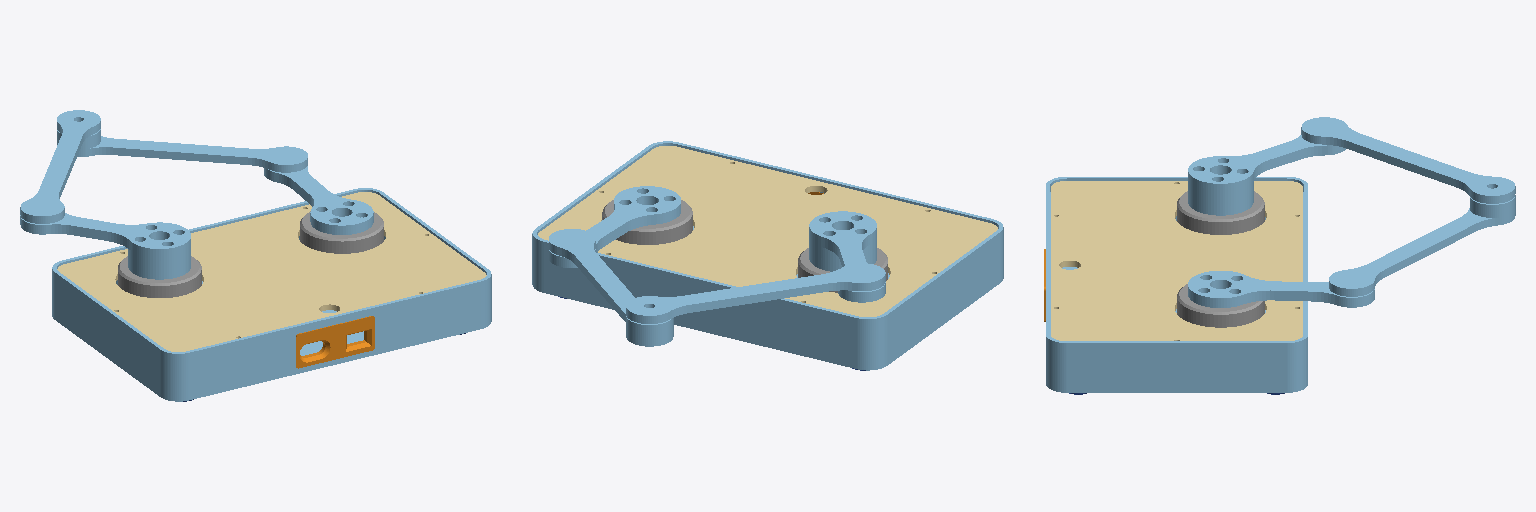
URDF robot description (motkinbench_five_bar):
<?xml version="1.0" ?>
<!-- Generated using onshape-to-robot -->
<!-- Onshape https://cad.onshape.com/documents/581c9cc37f21d16430f878db/w/71943bc1e21e09c7efc95c4d/e/f006a340564aa87bd0b132ba -->
<robot name="motkinbench_five_bar">
  <!-- Link base_link -->
  <link name="base_link">
    <inertial>
      <origin xyz="0 0 0" rpy="0 0 0"/>
      <mass value="1e-09"/>
      <inertia ixx="1e-09" ixy="0" ixz="0" iyy="1e-09" iyz="0" izz="1e-09"/>
    </inertial>
  </link>
  <!-- Link case -->
  <link name="case">
    <inertial>
      <origin xyz="0.00789938 0.0135971 0.00225065" rpy="0 0 0"/>
      <mass value="0.193781"/>
      <inertia ixx="0.000289186" ixy="0" ixz="0" iyy="0.000652997" iyz="-1.98334e-06" izz="0.000927223"/>
    </inertial>
    <!-- Part foot -->
    <visual>
      <origin xyz="0.00789938 0.0102628 -0.00394689" rpy="0 -0 0"/>
      <geometry>
        <mesh filename="package://assets/foot.stl"/>
      </geometry>
      <material name="foot_material">
        <color rgba="0.231373 0.380392 0.705882 1"/>
      </material>
    </visual>
    <collision>
      <origin xyz="0.00789938 0.0102628 -0.00394689" rpy="0 -0 0"/>
      <geometry>
        <mesh filename="package://assets/foot.stl"/>
      </geometry>
    </collision>
    <!-- Part foot_2 -->
    <visual>
      <origin xyz="0.00789938 0.100263 -0.00394689" rpy="0 -0 0"/>
      <geometry>
        <mesh filename="package://assets/foot.stl"/>
      </geometry>
      <material name="foot_2_material">
        <color rgba="0.231373 0.380392 0.705882 1"/>
      </material>
    </visual>
    <collision>
      <origin xyz="0.00789938 0.100263 -0.00394689" rpy="0 -0 0"/>
      <geometry>
        <mesh filename="package://assets/foot.stl"/>
      </geometry>
    </collision>
    <!-- Part conn_panel -->
    <visual>
      <origin xyz="0.00789938 -0.0455372 0.00805311" rpy="0 -0 0"/>
      <geometry>
        <mesh filename="package://assets/conn_panel.stl"/>
      </geometry>
      <material name="conn_panel_material">
        <color rgba="0.909804 0.572549 0.164706 1"/>
      </material>
    </visual>
    <collision>
      <origin xyz="0.00789938 -0.0455372 0.00805311" rpy="0 -0 0"/>
      <geometry>
        <mesh filename="package://assets/conn_panel.stl"/>
      </geometry>
    </collision>
    <!-- Part stator -->
    <visual>
      <origin xyz="0.0578994 0.0302628 0.00105311" rpy="0 -0 0"/>
      <geometry>
        <mesh filename="package://assets/stator.stl"/>
      </geometry>
      <material name="stator_material">
        <color rgba="0.439216 0.47451 0.501961 1"/>
      </material>
    </visual>
    <collision>
      <origin xyz="0.0578994 0.0302628 0.00105311" rpy="0 -0 0"/>
      <geometry>
        <mesh filename="package://assets/stator.stl"/>
      </geometry>
    </collision>
    <!-- Part stator_2 -->
    <visual>
      <origin xyz="-0.0421006 0.0302628 0.00105311" rpy="0 -0 0"/>
      <geometry>
        <mesh filename="package://assets/stator.stl"/>
      </geometry>
      <material name="stator_2_material">
        <color rgba="0.439216 0.47451 0.501961 1"/>
      </material>
    </visual>
    <collision>
      <origin xyz="-0.0421006 0.0302628 0.00105311" rpy="0 -0 0"/>
      <geometry>
        <mesh filename="package://assets/stator.stl"/>
      </geometry>
    </collision>
    <!-- Part foot_3 -->
    <visual>
      <origin xyz="-0.142101 0.100263 -0.00394689" rpy="0 -0 0"/>
      <geometry>
        <mesh filename="package://assets/foot.stl"/>
      </geometry>
      <material name="foot_3_material">
        <color rgba="0.231373 0.380392 0.705882 1"/>
      </material>
    </visual>
    <collision>
      <origin xyz="-0.142101 0.100263 -0.00394689" rpy="0 -0 0"/>
      <geometry>
        <mesh filename="package://assets/foot.stl"/>
      </geometry>
    </collision>
    <!-- Part foot_4 -->
    <visual>
      <origin xyz="-0.142101 0.0102628 -0.00394689" rpy="0 -0 0"/>
      <geometry>
        <mesh filename="package://assets/foot.stl"/>
      </geometry>
      <material name="foot_4_material">
        <color rgba="0.231373 0.380392 0.705882 1"/>
      </material>
    </visual>
    <collision>
      <origin xyz="-0.142101 0.0102628 -0.00394689" rpy="0 -0 0"/>
      <geometry>
        <mesh filename="package://assets/foot.stl"/>
      </geometry>
    </collision>
    <!-- Part case -->
    <visual>
      <origin xyz="0.00789938 0.0102628 -0.00394689" rpy="0 -0 0"/>
      <geometry>
        <mesh filename="package://assets/case.stl"/>
      </geometry>
      <material name="case_material">
        <color rgba="0.615686 0.811765 0.929412 1"/>
      </material>
    </visual>
    <collision>
      <origin xyz="0.00789938 0.0102628 -0.00394689" rpy="0 -0 0"/>
      <geometry>
        <mesh filename="package://assets/case.stl"/>
      </geometry>
    </collision>
  </link>
  <!-- Link rotor -->
  <link name="rotor">
    <inertial>
      <origin xyz="-0 -0.00341447 -0.0160121" rpy="0 0 0"/>
      <mass value="0.0421552"/>
      <inertia ixx="1.42858e-05" ixy="0" ixz="-0" iyy="8.06252e-06" iyz="-2.36787e-06" izz="1.35352e-05"/>
    </inertial>
    <!-- Part rotor -->
    <visual>
      <origin xyz="0 0 0.007" rpy="3.14159 -0 -0"/>
      <geometry>
        <mesh filename="package://assets/rotor.stl"/>
      </geometry>
      <material name="rotor_material">
        <color rgba="0.647059 0.647059 0.647059 1"/>
      </material>
    </visual>
    <collision>
      <origin xyz="0 0 0.007" rpy="3.14159 -0 -0"/>
      <geometry>
        <mesh filename="package://assets/rotor.stl"/>
      </geometry>
    </collision>
    <!-- Part arm_l1 -->
    <visual>
      <origin xyz="0 -0.06 -0.03" rpy="3.14159 -0 -1.5708"/>
      <geometry>
        <mesh filename="package://assets/arm_l1.stl"/>
      </geometry>
      <material name="arm_l1_material">
        <color rgba="0.615686 0.811765 0.929412 1"/>
      </material>
    </visual>
    <collision>
      <origin xyz="0 -0.06 -0.03" rpy="3.14159 -0 -1.5708"/>
      <geometry>
        <mesh filename="package://assets/arm_l1.stl"/>
      </geometry>
    </collision>
  </link>
  <!-- Link arm_l2 -->
  <link name="arm_l2">
    <inertial>
      <origin xyz="0.0486799 0 -0.00203243" rpy="0 0 0"/>
      <mass value="0.00836663"/>
      <inertia ixx="1.67009e-07" ixy="0" ixz="2.2447e-08" iyy="1.30505e-05" iyz="0" izz="1.31626e-05"/>
    </inertial>
    <!-- Part arm_l2 -->
    <visual>
      <origin xyz="0 0 -0.0005" rpy="-3.14159 -0 0"/>
      <geometry>
        <mesh filename="package://assets/arm_l2.stl"/>
      </geometry>
      <material name="arm_l2_material">
        <color rgba="0.615686 0.811765 0.929412 1"/>
      </material>
    </visual>
    <collision>
      <origin xyz="0 0 -0.0005" rpy="-3.14159 -0 0"/>
      <geometry>
        <mesh filename="package://assets/arm_l2.stl"/>
      </geometry>
    </collision>
  </link>
  <!-- Frame closing_tip_2 (dummy link + fixed joint) -->
  <link name="closing_tip_2">
    <origin xyz="0 0 0" rpy="0 -0 0"/>
    <inertial>
      <origin xyz="0 0 0" rpy="0 0 0"/>
      <mass value="1e-9"/>
      <inertia ixx="0" ixy="0" ixz="0" iyy="0" iyz="0" izz="0"/>
    </inertial>
  </link>
  <joint name="closing_tip_2_frame" type="fixed">
    <origin xyz="0.1 0 0" rpy="3.14159 0 -1.5708"/>
    <parent link="arm_l2"/>
    <child link="closing_tip_2"/>
    <axis xyz="0 0 0"/>
  </joint>
  <!-- Frame closing_tip_2_z (dummy link + fixed joint) -->
  <link name="closing_tip_2_z">
    <origin xyz="0 0 0" rpy="0 -0 0"/>
    <inertial>
      <origin xyz="0 0 0" rpy="0 0 0"/>
      <mass value="1e-9"/>
      <inertia ixx="0" ixy="0" ixz="0" iyy="0" iyz="0" izz="0"/>
    </inertial>
  </link>
  <joint name="closing_tip_2_z_frame" type="fixed">
    <origin xyz="0.1 0 -0.1" rpy="3.14159 0 -1.5708"/>
    <parent link="arm_l2"/>
    <child link="closing_tip_2_z"/>
    <axis xyz="0 0 0"/>
  </joint>
  <!-- Joint from rotor to arm_l2 -->
  <joint name="passive_1" type="continuous">
    <origin xyz="0 -0.06 -0.035" rpy="-0 0 -0.212054"/>
    <parent link="rotor"/>
    <child link="arm_l2"/>
    <axis xyz="0 0 1"/>
    <limit effort="10" velocity="10"/>
  </joint>
  <!-- Joint from case to rotor -->
  <joint name="motor_1" type="continuous">
    <origin xyz="-0.0421006 0.0302628 0.00805311" rpy="-3.14159 0 0.662203"/>
    <parent link="case"/>
    <child link="rotor"/>
    <axis xyz="0 0 1"/>
    <limit effort="10" velocity="10"/>
  </joint>
  <!-- Link rotor_2 -->
  <link name="rotor_2">
    <inertial>
      <origin xyz="0 -0.00413346 -0.012052" rpy="0 0 0"/>
      <mass value="0.0348226"/>
      <inertia ixx="1.09011e-05" ixy="-0" ixz="-0" iyy="4.78125e-06" iyz="-1.35457e-06" izz="1.24874e-05"/>
    </inertial>
    <!-- Part arm_r1 -->
    <visual>
      <origin xyz="0 -0.06 -0.019" rpy="3.14159 -0 -1.5708"/>
      <geometry>
        <mesh filename="package://assets/arm_r1.stl"/>
      </geometry>
      <material name="arm_r1_material">
        <color rgba="0.615686 0.811765 0.929412 1"/>
      </material>
    </visual>
    <collision>
      <origin xyz="0 -0.06 -0.019" rpy="3.14159 -0 -1.5708"/>
      <geometry>
        <mesh filename="package://assets/arm_r1.stl"/>
      </geometry>
    </collision>
    <!-- Part rotor_2 -->
    <visual>
      <origin xyz="0 0 0.007" rpy="3.14159 -0 -0"/>
      <geometry>
        <mesh filename="package://assets/rotor.stl"/>
      </geometry>
      <material name="rotor_2_material">
        <color rgba="0.647059 0.647059 0.647059 1"/>
      </material>
    </visual>
    <collision>
      <origin xyz="0 0 0.007" rpy="3.14159 -0 -0"/>
      <geometry>
        <mesh filename="package://assets/rotor.stl"/>
      </geometry>
    </collision>
  </link>
  <!-- Link arm_r2 -->
  <link name="arm_r2">
    <inertial>
      <origin xyz="0.0328205 -0.0449868 -0.00311181" rpy="0 0 0"/>
      <mass value="0.00968954"/>
      <inertia ixx="1.06339e-05" ixy="7.56672e-06" ixz="2.86385e-07" iyy="5.7826e-06" iyz="-3.92545e-07" izz="1.62905e-05"/>
    </inertial>
    <!-- Part arm_r2 -->
    <visual>
      <origin xyz="0 0 -0.0005" rpy="-3.14159 0 -0.940506"/>
      <geometry>
        <mesh filename="package://assets/arm_r2.stl"/>
      </geometry>
      <material name="arm_r2_material">
        <color rgba="0.615686 0.811765 0.929412 1"/>
      </material>
    </visual>
    <collision>
      <origin xyz="0 0 -0.0005" rpy="-3.14159 0 -0.940506"/>
      <geometry>
        <mesh filename="package://assets/arm_r2.stl"/>
      </geometry>
    </collision>
  </link>
  <!-- Frame closing_tip_1 (dummy link + fixed joint) -->
  <link name="closing_tip_1">
    <origin xyz="0 0 0" rpy="0 -0 0"/>
    <inertial>
      <origin xyz="0 0 0" rpy="0 0 0"/>
      <mass value="1e-9"/>
      <inertia ixx="0" ixy="0" ixz="0" iyy="0" iyz="0" izz="0"/>
    </inertial>
  </link>
  <joint name="closing_tip_1_frame" type="fixed">
    <origin xyz="0.0589379 -0.0807857 -0.011" rpy="-3.14159 0 -0.940506"/>
    <parent link="arm_r2"/>
    <child link="closing_tip_1"/>
    <axis xyz="0 0 0"/>
  </joint>
  <!-- Frame closing_tip_1_z (dummy link + fixed joint) -->
  <link name="closing_tip_1_z">
    <origin xyz="0 0 0" rpy="0 -0 0"/>
    <inertial>
      <origin xyz="0 0 0" rpy="0 0 0"/>
      <mass value="1e-9"/>
      <inertia ixx="0" ixy="0" ixz="0" iyy="0" iyz="0" izz="0"/>
    </inertial>
  </link>
  <joint name="closing_tip_1_z_frame" type="fixed">
    <origin xyz="0.0589379 -0.0807857 -0.111" rpy="-3.14159 0 -0.940506"/>
    <parent link="arm_r2"/>
    <child link="closing_tip_1_z"/>
    <axis xyz="0 0 0"/>
  </joint>
  <!-- Joint from rotor_2 to arm_r2 -->
  <joint name="passive_2" type="continuous">
    <origin xyz="0 -0.06 -0.024" rpy="-0 -0 -1.5708"/>
    <parent link="rotor_2"/>
    <child link="arm_r2"/>
    <axis xyz="0 0 1"/>
    <limit effort="10" velocity="10"/>
  </joint>
  <!-- Joint from case to rotor_2 -->
  <joint name="motor_2" type="continuous">
    <origin xyz="0.0578994 0.0302628 0.00805311" rpy="3.14159 0 -0.0662491"/>
    <parent link="case"/>
    <child link="rotor_2"/>
    <axis xyz="0 0 1"/>
    <limit effort="10" velocity="10"/>
  </joint>
  <!-- Joint from base_link to case -->
  <joint name="base_link_to_case" type="fixed">
    <origin xyz="0 0 0" rpy="0 -0 0"/>
    <parent link="base_link"/>
    <child link="case"/>
    <axis xyz="0 0 1"/>
    <limit effort="10" velocity="10"/>
  </joint>
  <!-- Link c_0402_1005metric -->
  <link name="c_0402_1005metric">
    <inertial>
      <origin xyz="0 0 0" rpy="0 0 0"/>
      <mass value="1e-09"/>
      <inertia ixx="1e-09" ixy="0" ixz="0" iyy="1e-09" iyz="0" izz="1e-09"/>
    </inertial>
  </link>
  <!-- Joint from base_link to c_0402_1005metric -->
  <joint name="base_link_to_c_0402_1005metric" type="fixed">
    <origin xyz="0 0 0" rpy="0 -0 0"/>
    <parent link="base_link"/>
    <child link="c_0402_1005metric"/>
    <axis xyz="0 0 1"/>
    <limit effort="10" velocity="10"/>
  </joint>
  <!-- Link top_cover -->
  <link name="top_cover">
    <inertial>
      <origin xyz="0.00788351 0.00728336 0.0185531" rpy="0 0 0"/>
      <mass value="0.0649221"/>
      <inertia ixx="7.68894e-05" ixy="-4.728e-08" ixz="0" iyy="0.000165678" iyz="0" izz="0.00024247"/>
    </inertial>
    <!-- Part top_cover -->
    <visual>
      <origin xyz="0.00789938 0.0102628 -0.00394689" rpy="0 -0 0"/>
      <geometry>
        <mesh filename="package://assets/top_cover.stl"/>
      </geometry>
      <material name="top_cover_material">
        <color rgba="0.941176 0.87451 0.678431 0.231373"/>
      </material>
    </visual>
    <collision>
      <origin xyz="0.00789938 0.0102628 -0.00394689" rpy="0 -0 0"/>
      <geometry>
        <mesh filename="package://assets/top_cover.stl"/>
      </geometry>
    </collision>
  </link>
  <!-- Joint from base_link to top_cover -->
  <joint name="base_link_to_top_cover" type="fixed">
    <origin xyz="0 0 0" rpy="0 -0 0"/>
    <parent link="base_link"/>
    <child link="top_cover"/>
    <axis xyz="0 0 1"/>
    <limit effort="10" velocity="10"/>
  </joint>
</robot>

--- Render facts (derived) ---
3 views of the same robot in one strip: view 1: azimuth 30°, elevation 25°; view 2: azimuth 150°, elevation 25°; view 3: azimuth 270°, elevation 25° (orthographic).
Model motkinbench_five_bar with 12 links and 11 joints (4 continuous, 7 fixed), rooted at base_link, posed all joints at 0.
Visible links, largest first — view 1: top_cover, case, rotor, rotor_2, arm_r2, arm_l2; view 2: top_cover, case, arm_l2, rotor_2, rotor, arm_r2; view 3: top_cover, case, rotor, rotor_2, arm_l2, arm_r2.
Link boxes in pixels (x1=…): top_cover: x1=57, y1=192, x2=486, y2=351; case: x1=52, y1=188, x2=491, y2=401; rotor: x1=20, y1=213, x2=201, y2=297; rotor_2: x1=264, y1=166, x2=383, y2=253; arm_r2: x1=57, y1=129, x2=307, y2=172; arm_l2: x1=20, y1=110, x2=100, y2=223; top_cover: x1=538, y1=146, x2=997, y2=316; case: x1=532, y1=141, x2=1003, y2=370; arm_l2: x1=626, y1=263, x2=885, y2=323; rotor_2: x1=549, y1=186, x2=692, y2=267; rotor: x1=798, y1=211, x2=887, y2=302; arm_r2: x1=549, y1=229, x2=673, y2=346; top_cover: x1=1051, y1=181, x2=1302, y2=340; case: x1=1044, y1=177, x2=1307, y2=394; rotor: x1=1177, y1=135, x2=1345, y2=234; rotor_2: x1=1177, y1=271, x2=1374, y2=327; arm_l2: x1=1301, y1=117, x2=1515, y2=203; arm_r2: x1=1329, y1=195, x2=1515, y2=296.
Bounding box of the posed robot: 0.1874 × 0.215 × 0.0565 m (x, y, z).
Meshes: 10 distinct files referenced, 15 mesh visuals loaded (10 binary STL).
